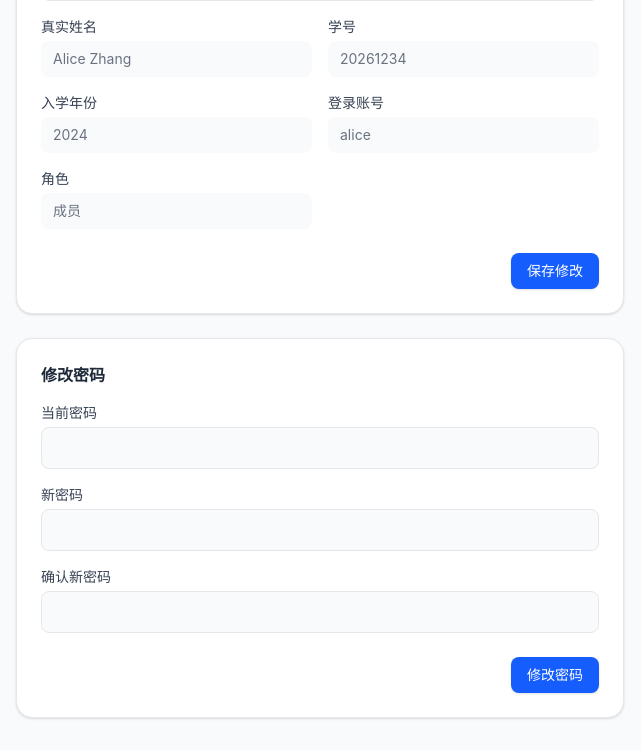
Test: ProfilePage › maps WRONG_PASSWORD to field error
The width and height of the screenshot is (641, 750).
(page scrolled)
Type "wrong-old-password" into the password field labelled "当前密码" at {"x": 320, "y": 448}, box [41,427,599,469]
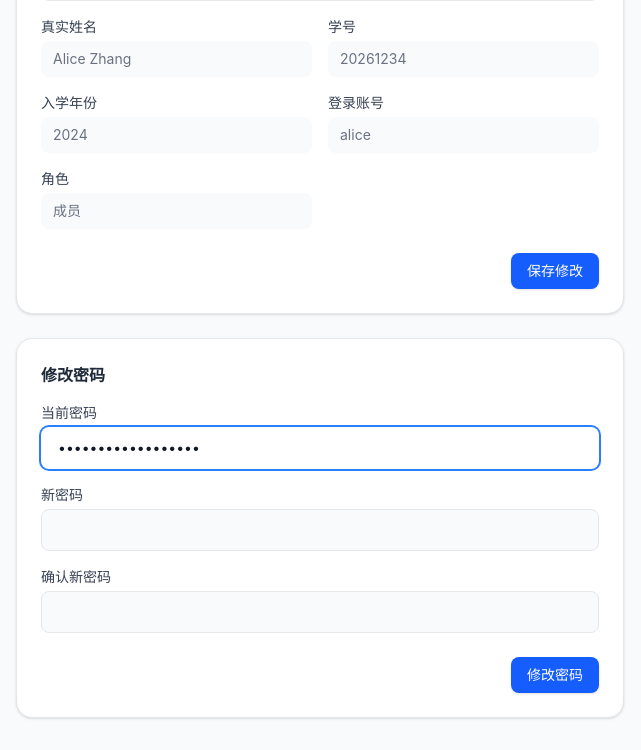
Type "new-password" into the password field labelled "新密码" at {"x": 320, "y": 530}, box [41,509,599,551]
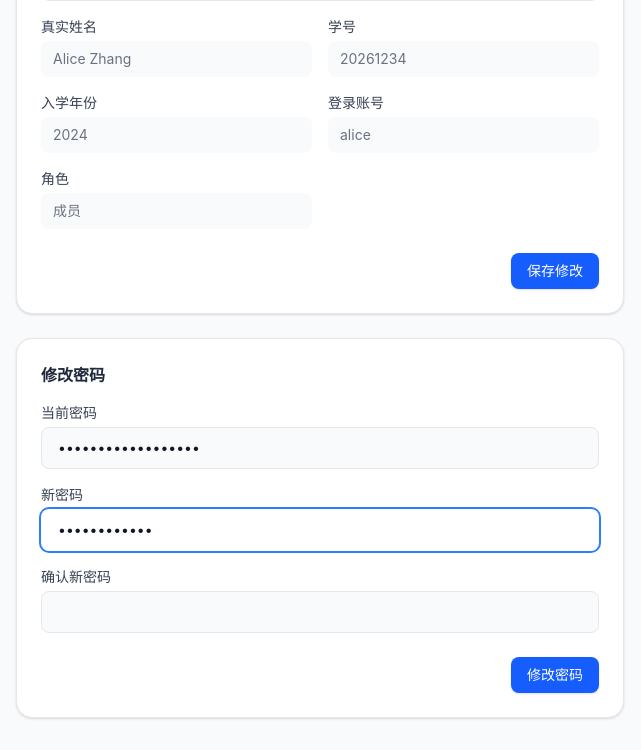
Type "new-password" into the password field labelled "确认新密码" at {"x": 320, "y": 612}, box [41,591,599,633]
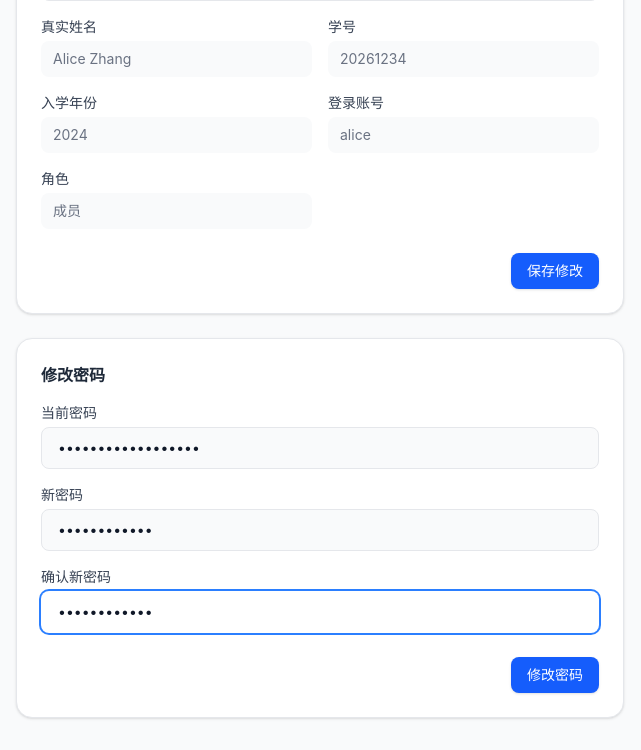
Click the button "修改密码" at {"x": 555, "y": 675}, box [511,657,599,693]
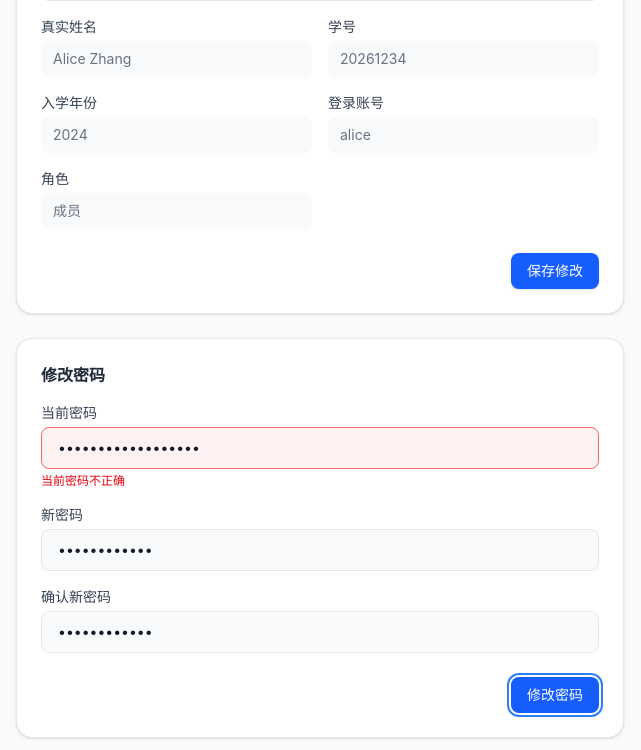
Now the text "当前密码不正确" is shown, box [41,473,125,488]
